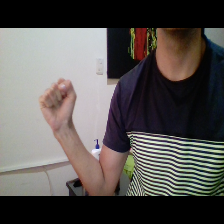9D: (37, 74, 83, 134)
